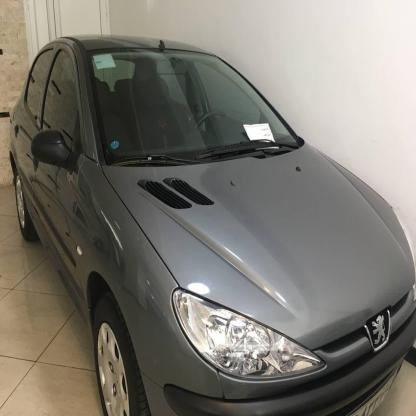Car: (0, 18, 416, 416)
